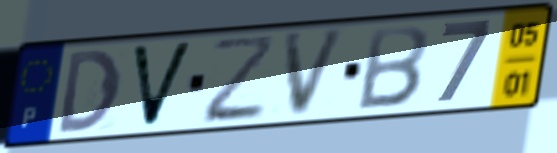7: (433, 16, 497, 107)
B: (353, 24, 431, 113)
D: (56, 46, 124, 137)
V: (281, 25, 350, 121), (128, 39, 197, 131)
Z: (202, 32, 279, 128)
